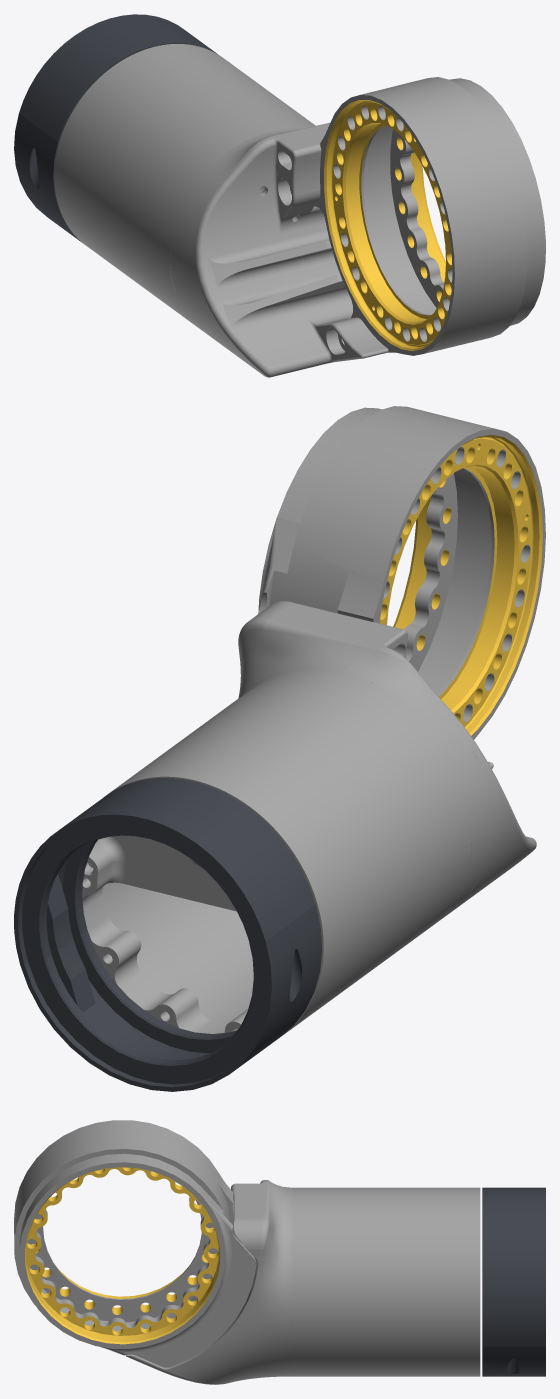
File: RIGHT_SHOULDER_ROLL_LINK.obj
The picture shows the model from 3 angles, top to bottom: view 1: azimuth 30°, elevation 25°; view 2: azimuth 150°, elevation 25°; view 3: azimuth 270°, elevation 25°; orthographic projection. The views are drawn at different scales.
Size of the model in its own units: 0.0899 by 0.1285 by 0.2449.
